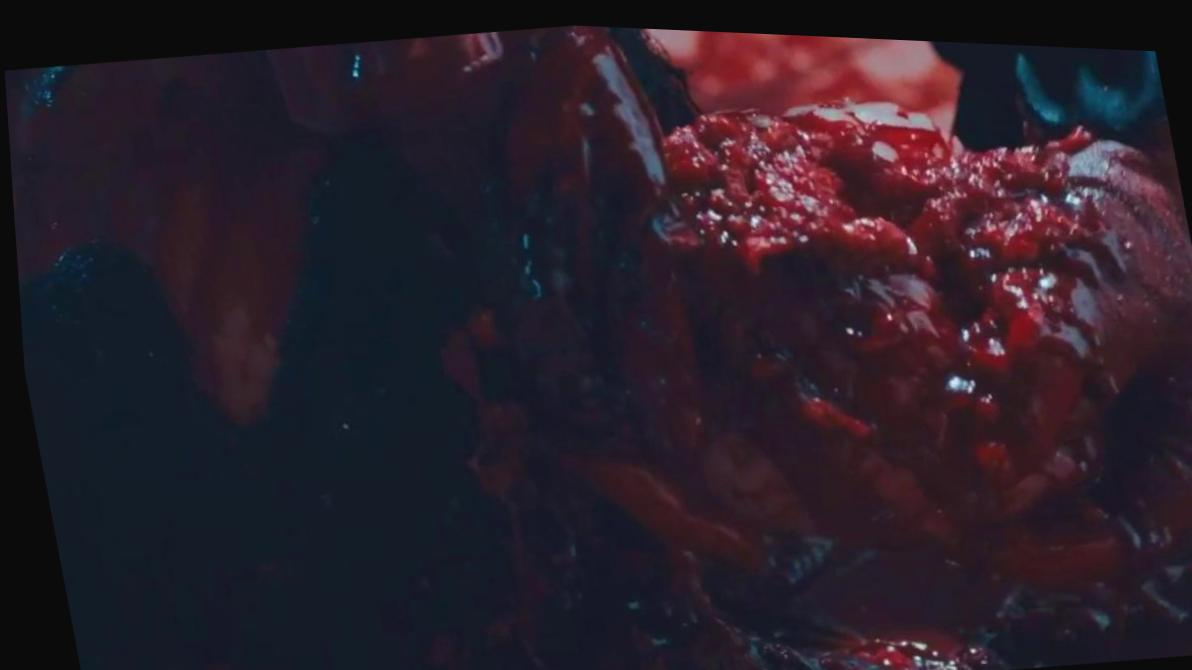Fire: (4, 20, 1192, 670)
